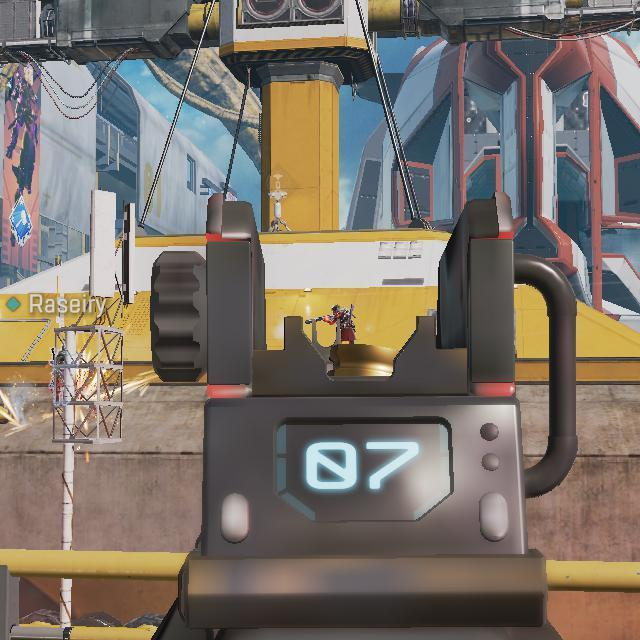avatar: (330, 303, 357, 345)
